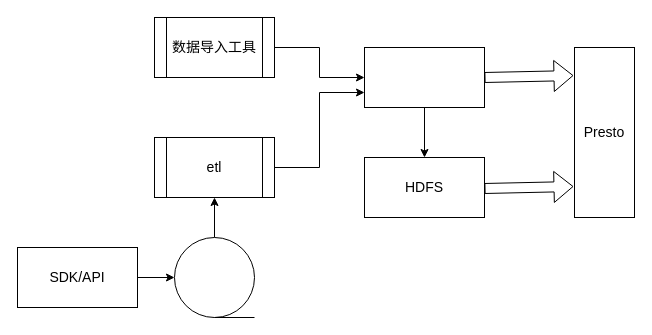
This 652x335 diagram has some shape labels left out. Here are the shapes that lost their labels. From the top down, the box of each, then its label:
(364, 46, 484, 108): Kudu
(174, 236, 254, 318): kafka
